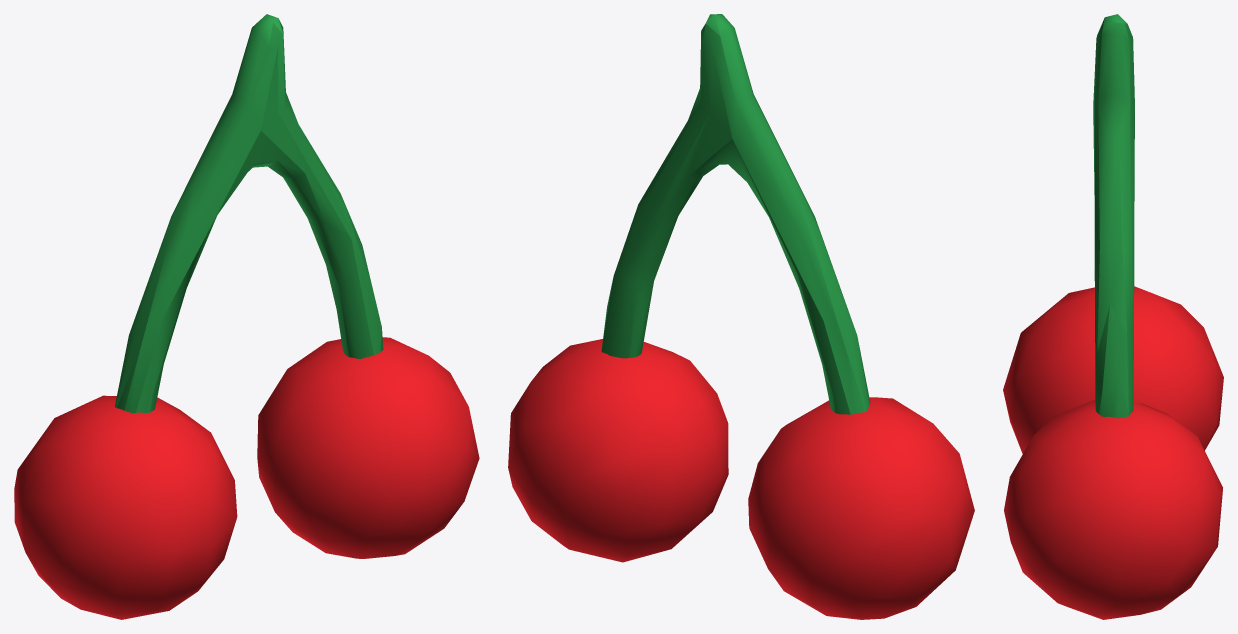
The model's file is Berries.fbx.
The picture shows the model from 3 angles, left to right: view 1: azimuth 30°, elevation 25°; view 2: azimuth 150°, elevation 25°; view 3: azimuth 270°, elevation 25°; orthographic projection. The views are drawn at different scales.
Parts seen in each view (by area): view 1: Cube.001; view 2: Cube.001; view 3: Cube.001.
Part boxes in pixels (<box>): Cube.001: <box>14,14,479,619</box>; Cube.001: <box>508,14,974,619</box>; Cube.001: <box>1003,14,1223,619</box>.
Bounding box in the file's own units: 443 × 548 × 200.
